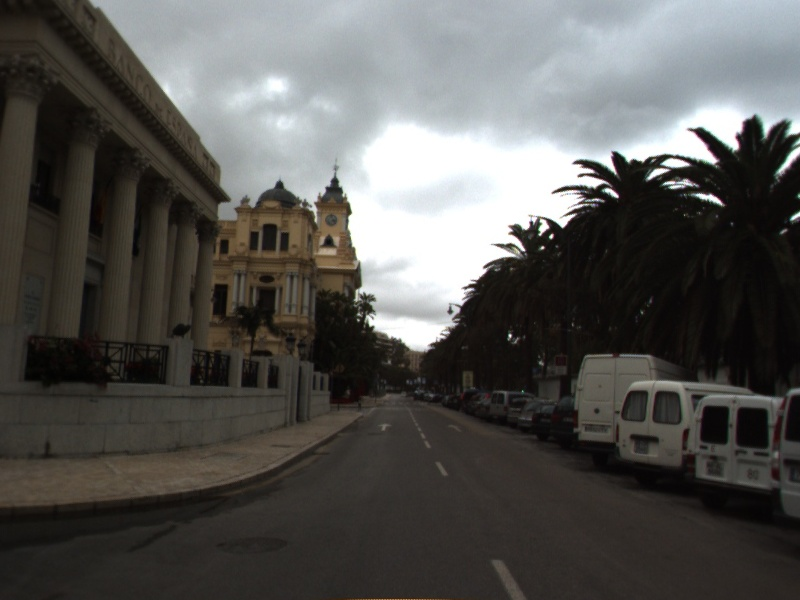STRAIGHT: (376, 421, 394, 433), (446, 422, 464, 434)
